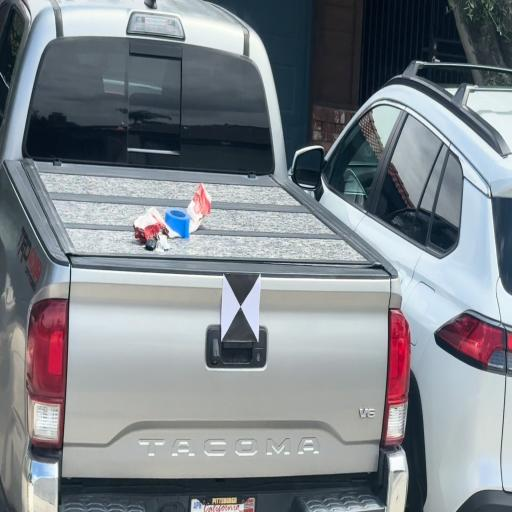target: (221, 275, 261, 342)
